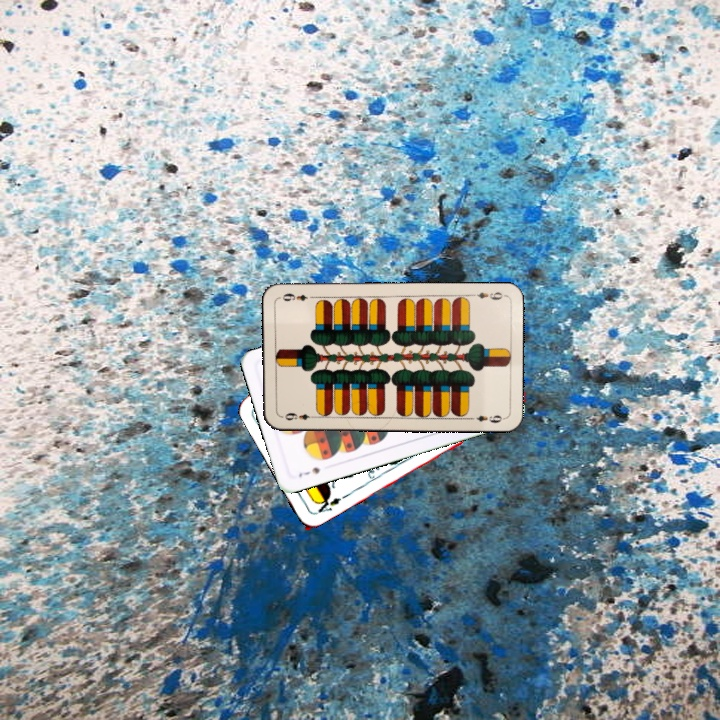E9: (466, 288, 507, 303), (277, 409, 318, 423)
EA: (311, 492, 344, 517)
S7: (294, 463, 323, 480)
